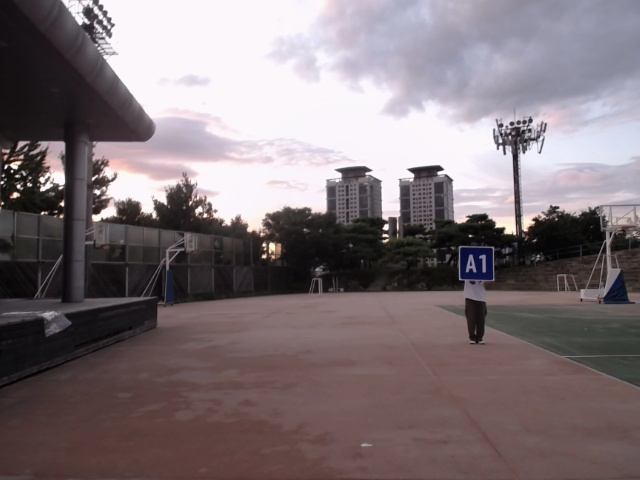delivery_a1: (459, 247, 495, 281)
